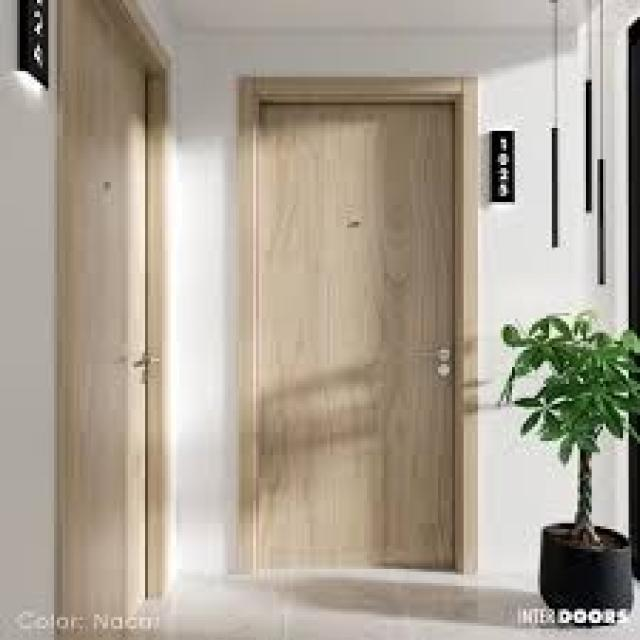door: (243, 87, 462, 576)
